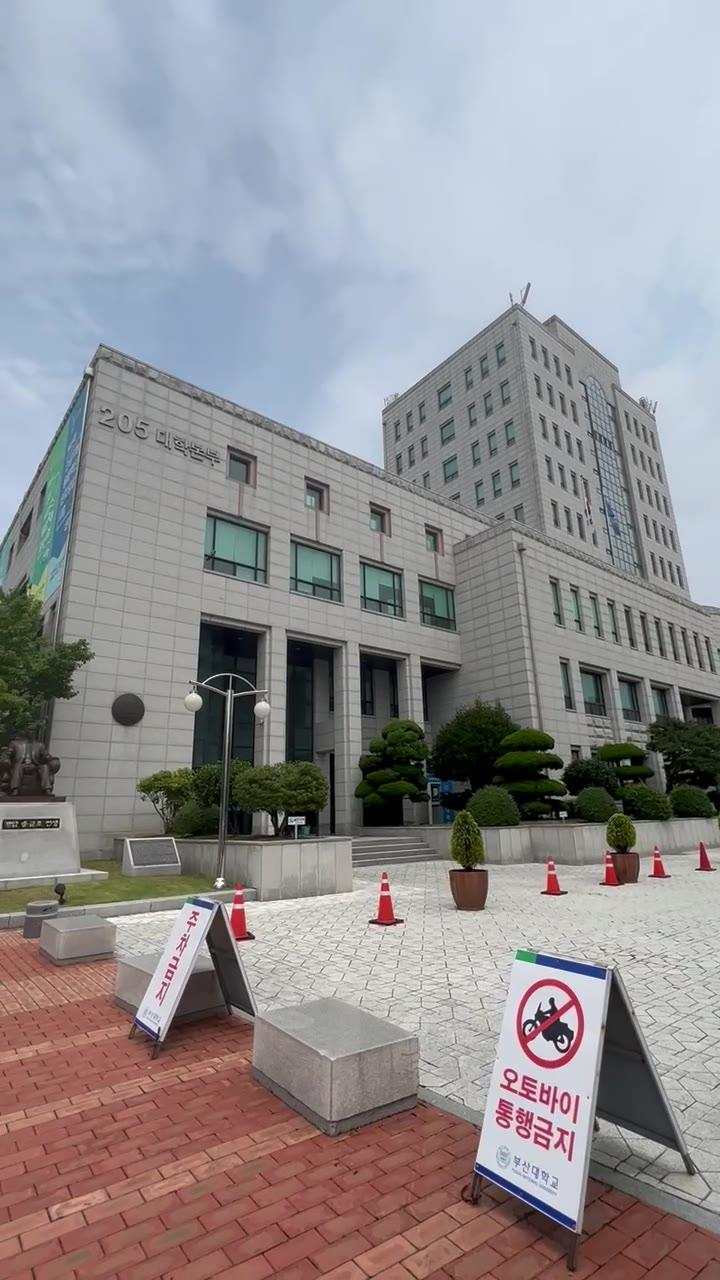building: (68, 266, 674, 696)
